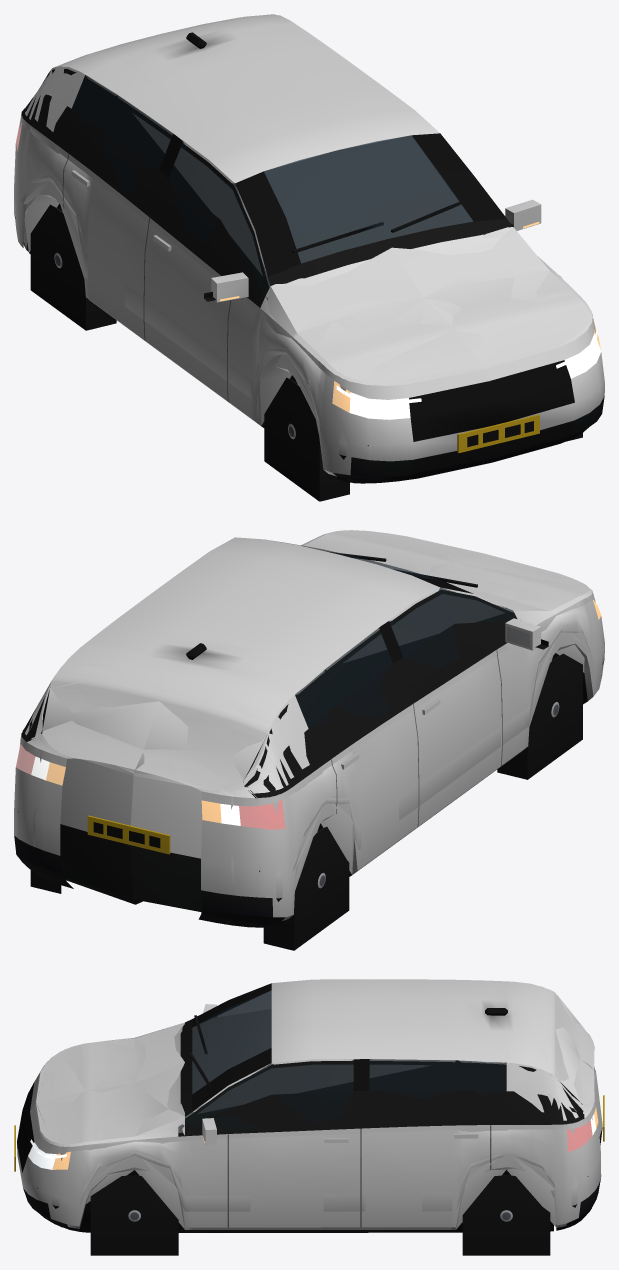
Rendered from hatch.glb.
The picture shows the model from 3 angles, top to bottom: view 1: azimuth 30°, elevation 25°; view 2: azimuth 150°, elevation 25°; view 3: azimuth 270°, elevation 25°; orthographic projection. The views are drawn at different scales.
Visible parts, largest first — view 1: body (×3); view 2: body (×3); view 3: body (×3).
Boxes of the visible parts, <box> form: body (×3): <box>14,14,604,501</box>; body (×3): <box>14,530,604,950</box>; body (×3): <box>14,979,604,1255</box>.
Bounding box in the file's own units: 2.12 × 1.5 × 4.1.
